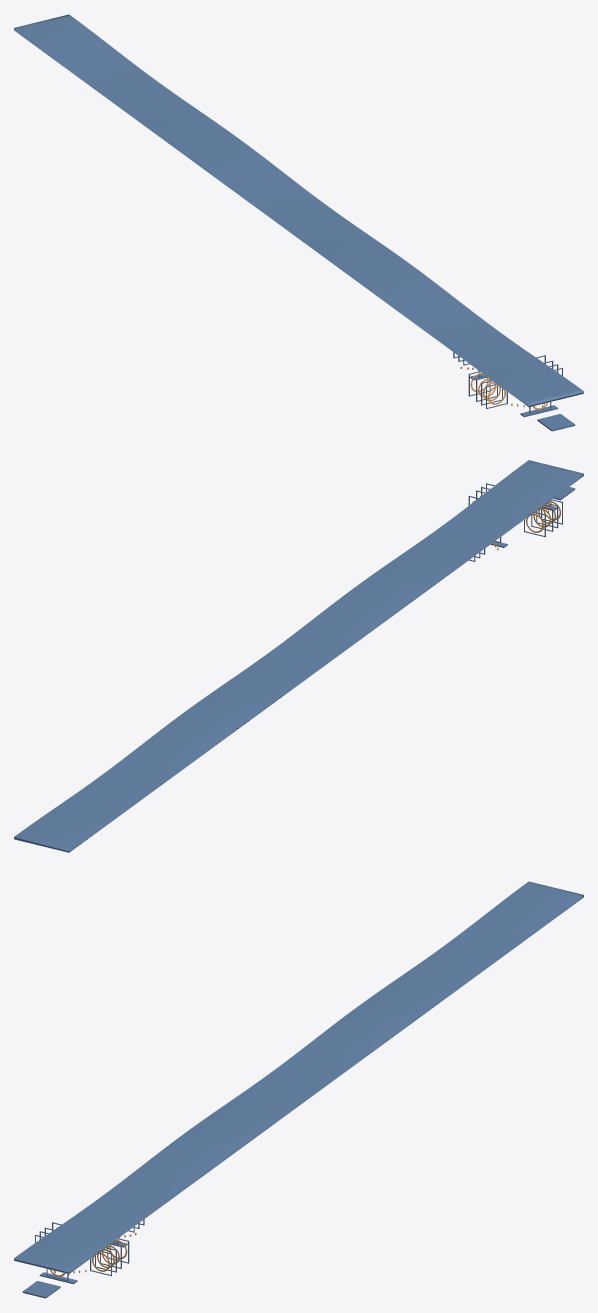
File: contact.glb
The picture shows the model from 3 angles, top to bottom: view 1: azimuth 30°, elevation 25°; view 2: azimuth 150°, elevation 25°; view 3: azimuth 330°, elevation 25°; orthographic projection.
Visible parts, largest first — view 1: box-1; view 2: box-1; view 3: box-1.
Part boxes in pixels (x1,y1,x2,y2): box-1: (14,14,583,406); box-1: (14,460,583,852); box-1: (14,881,583,1273).
Size of the model in its own units: 36.15 by 11.86 by 426.
